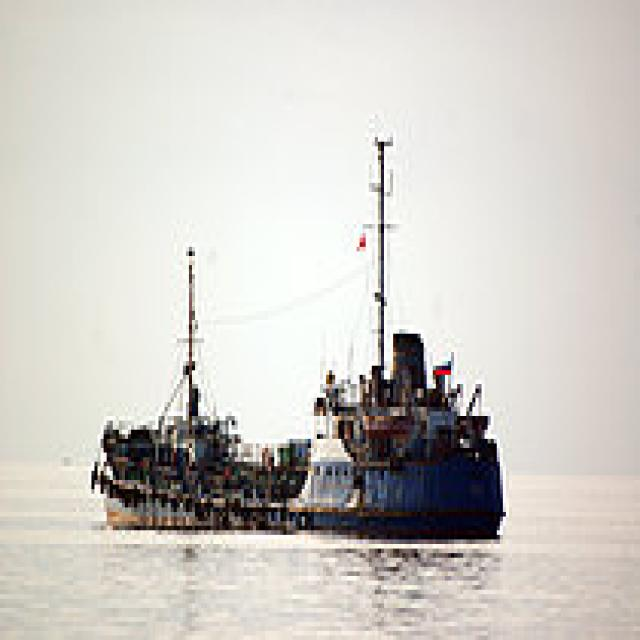Tanker: (85, 123, 506, 540)
